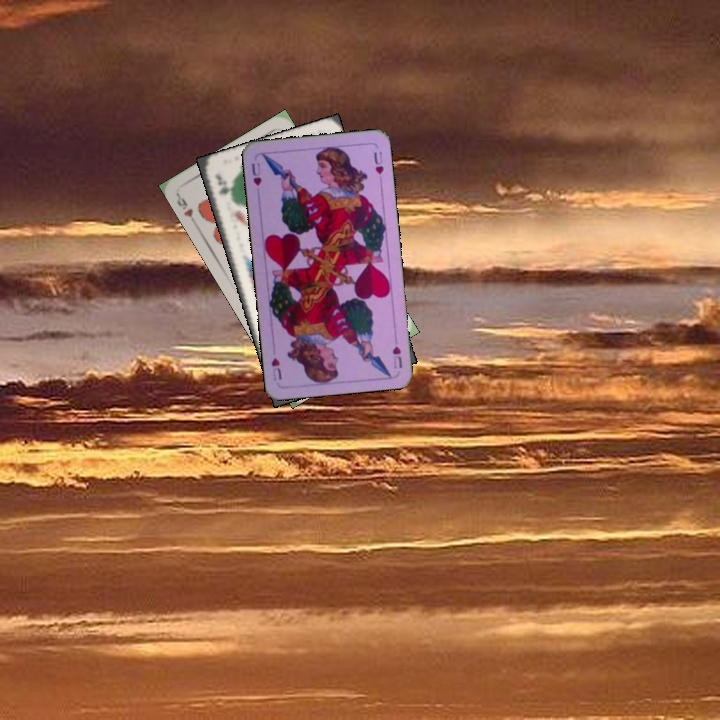GK: (211, 170, 231, 197)
H9: (172, 191, 199, 228)
HU: (389, 332, 405, 371), (248, 158, 264, 188)
